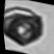correct: (0, 0, 54, 50)
